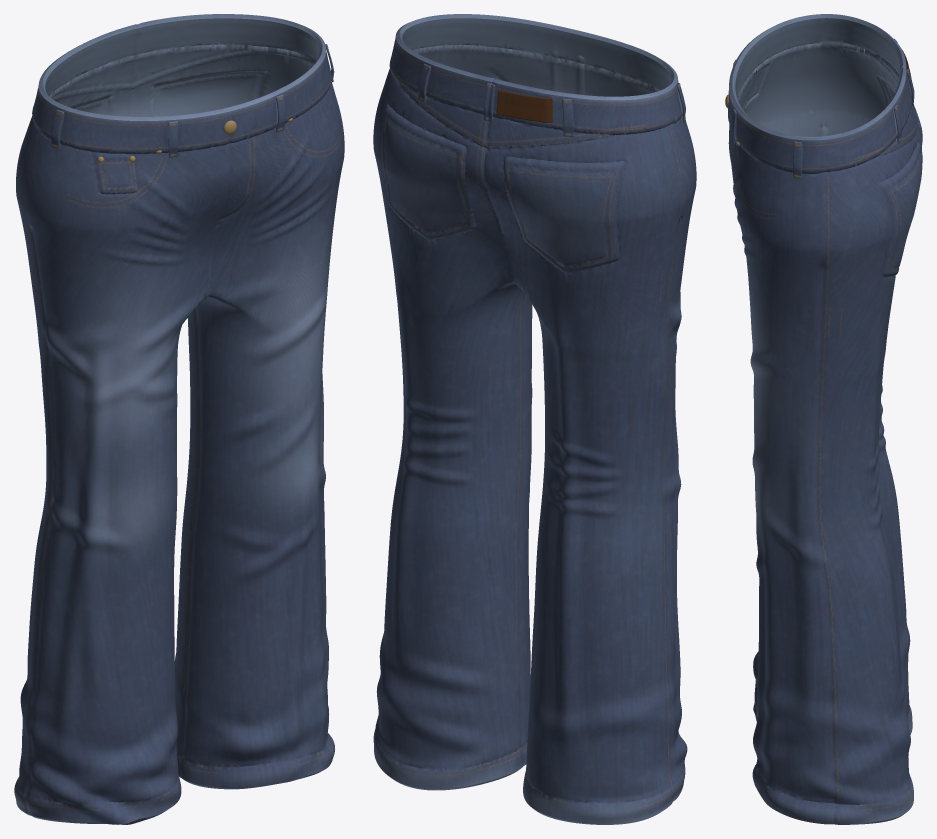
File: 26_vaquero_bootcut_pbr.glb
3 views of the same model, side by side, from view 1: azimuth 30°, elevation 25°; view 2: azimuth 150°, elevation 25°; view 3: azimuth 270°, elevation 25° (orthographic). The views are drawn at different scales.
Visible parts, largest first — view 1: Vaquero PBR; view 2: Vaquero PBR, Etiqueta de piel; view 3: Vaquero PBR.
Part boxes in pixels (left/top/right/bottom): Vaquero PBR: left=14, top=14, right=344, bottom=824; Vaquero PBR: left=373, top=14, right=696, bottom=824; Etiqueta de piel: left=496, top=90, right=552, bottom=122; Vaquero PBR: left=728, top=14, right=922, bottom=824.
Bounding box in the file's own units: 0.4267 × 0.986 × 0.2516.
Materials: 3 (1 with a texture image).
